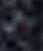one: (19, 20, 22, 30)
